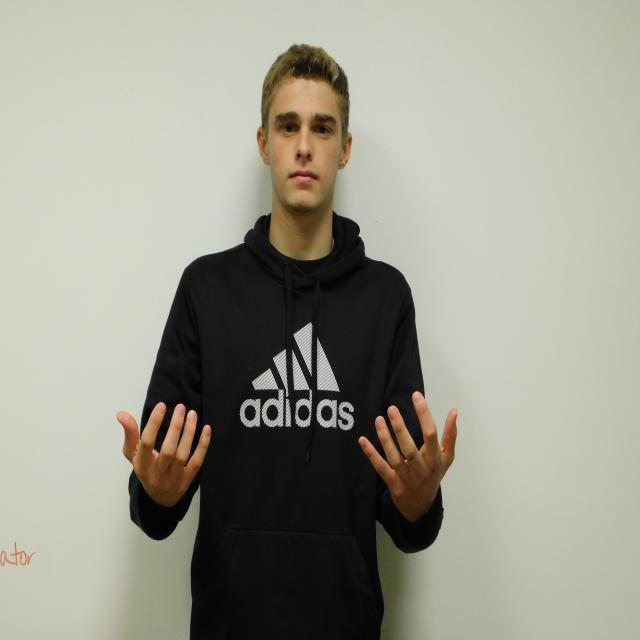want: (118, 392, 458, 518)
